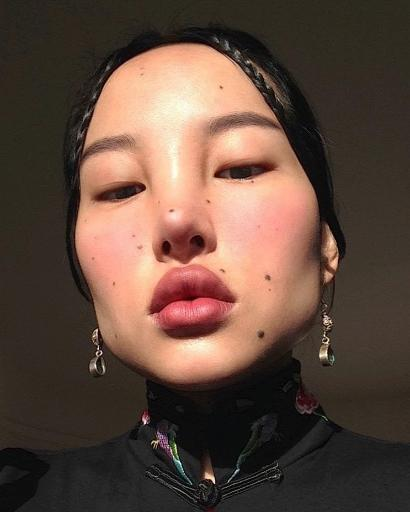left_eye: (215, 160, 279, 188)
left_lip_corner: (228, 291, 245, 313)
right_eye: (94, 181, 148, 208)
right_lip_corner: (144, 303, 161, 324)
